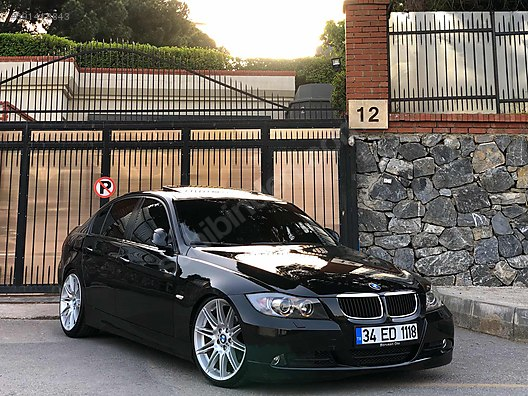bmw: (55, 181, 460, 389)
